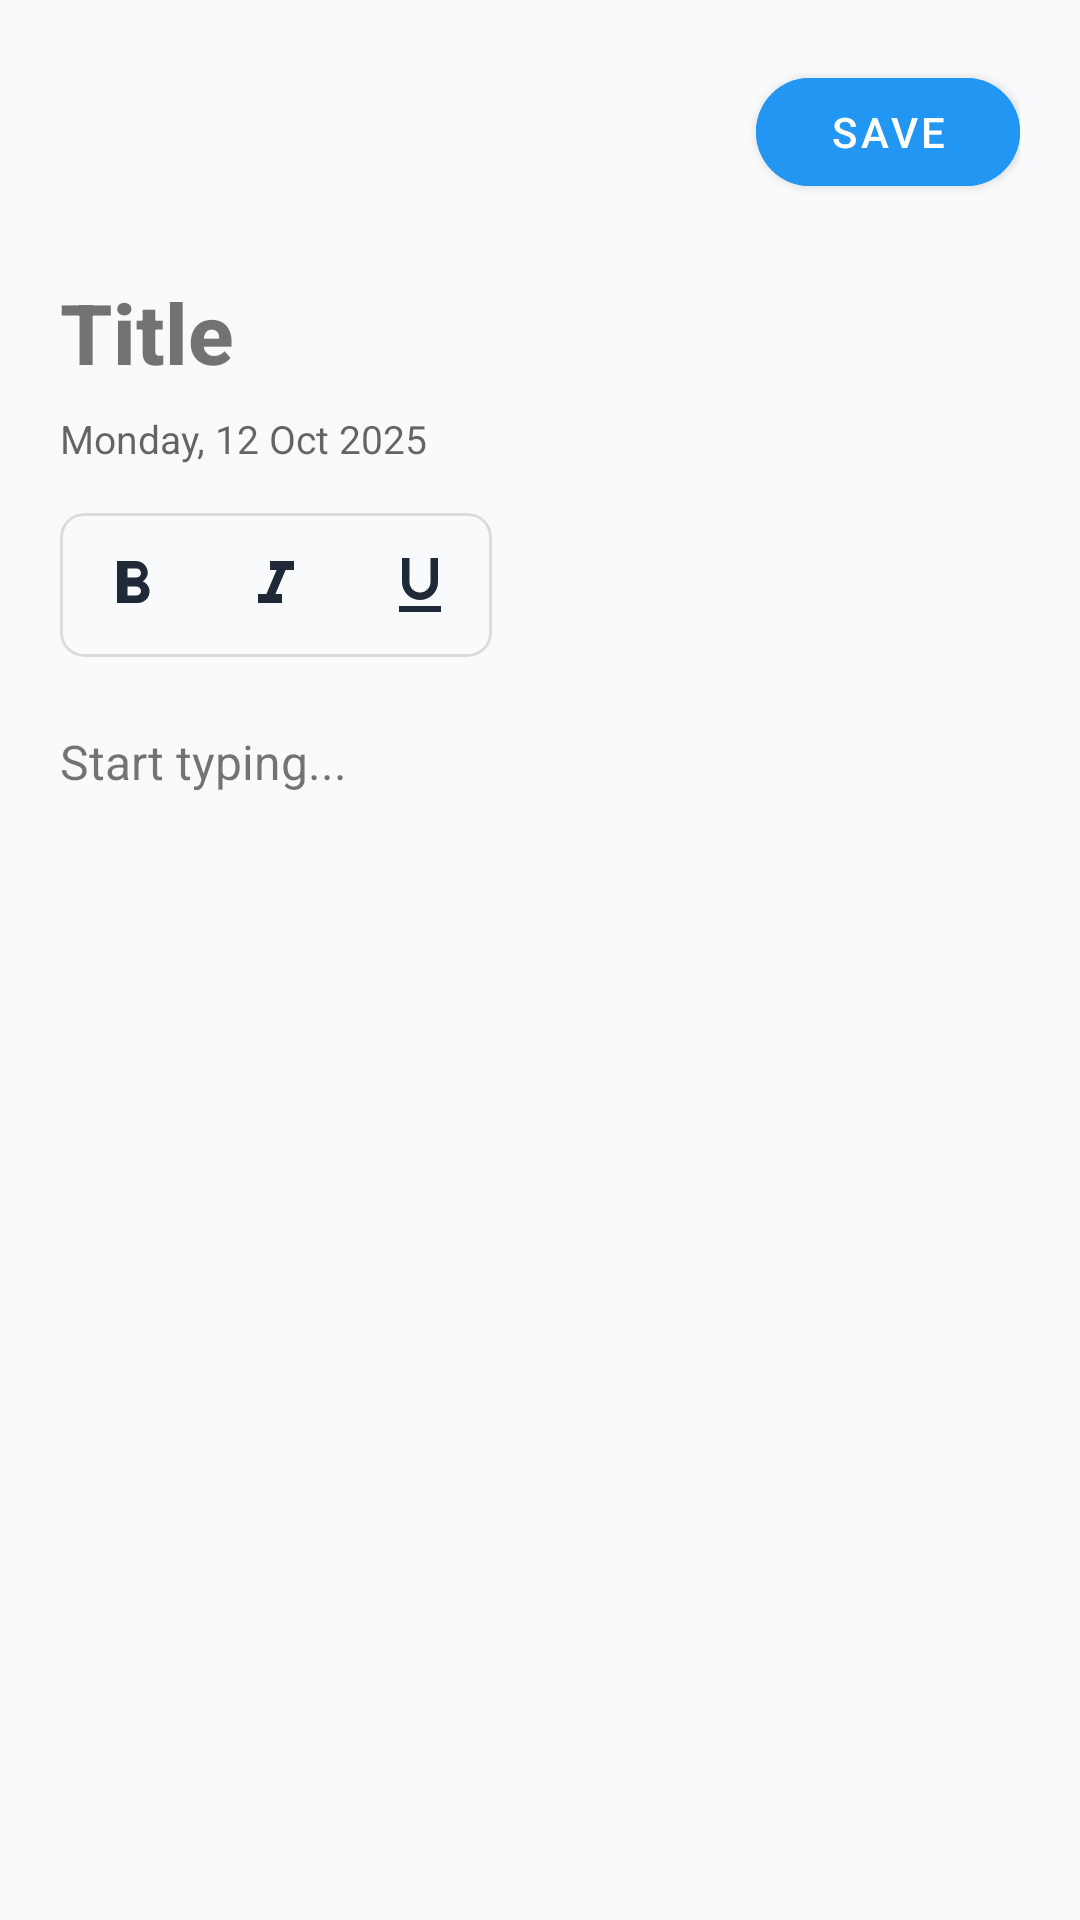

Icon bounding boxes for this 1080px×1920px phone screenshot, format (x1, y1, x2, y2):
format italic: (258, 561, 294, 603)
format underlined: (399, 558, 441, 612)
